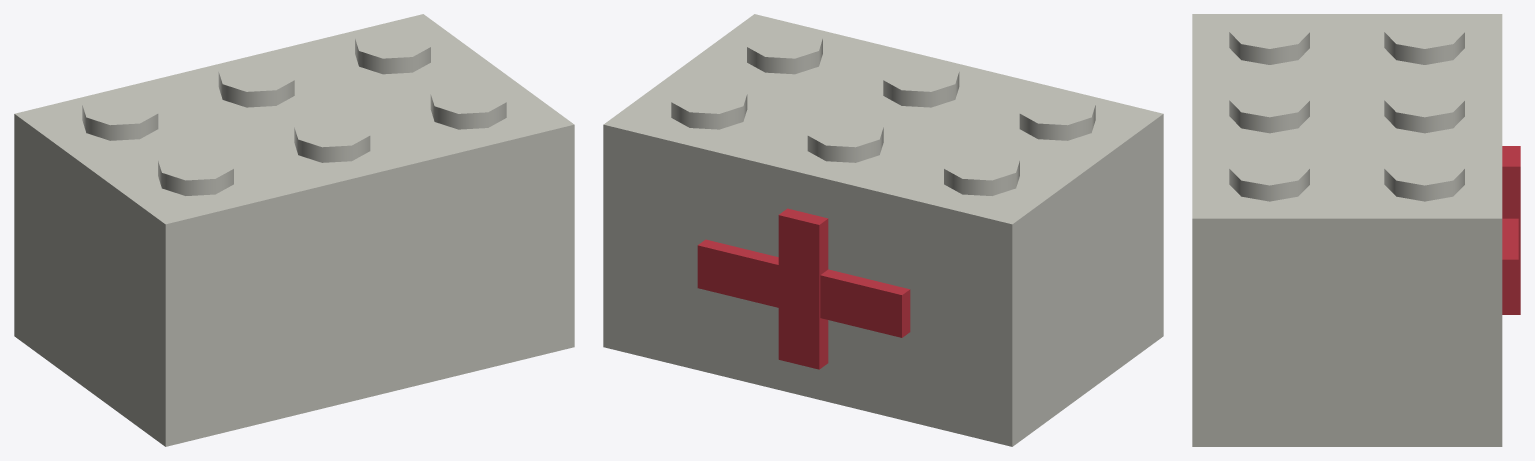
File: LegoMedkit.glb
The picture shows the model from 3 angles, left to right: view 1: azimuth 30°, elevation 25°; view 2: azimuth 150°, elevation 25°; view 3: azimuth 270°, elevation 25°; orthographic projection. The views are drawn at different scales.
Parts seen in each view (by area): view 1: LegoMedkit; view 2: LegoMedkit; view 3: LegoMedkit.
Boxes of the visible parts, x1,y1,x2,y2 form: LegoMedkit: [14, 14, 574, 446]; LegoMedkit: [603, 14, 1163, 446]; LegoMedkit: [1192, 14, 1520, 446].
Size of the model in its own units: 0.5 by 0.2783 by 0.339.
